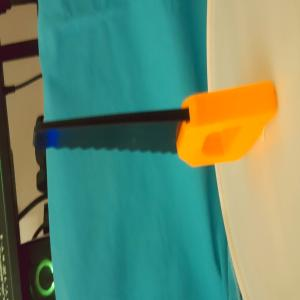serrote: (35, 81, 278, 167)
